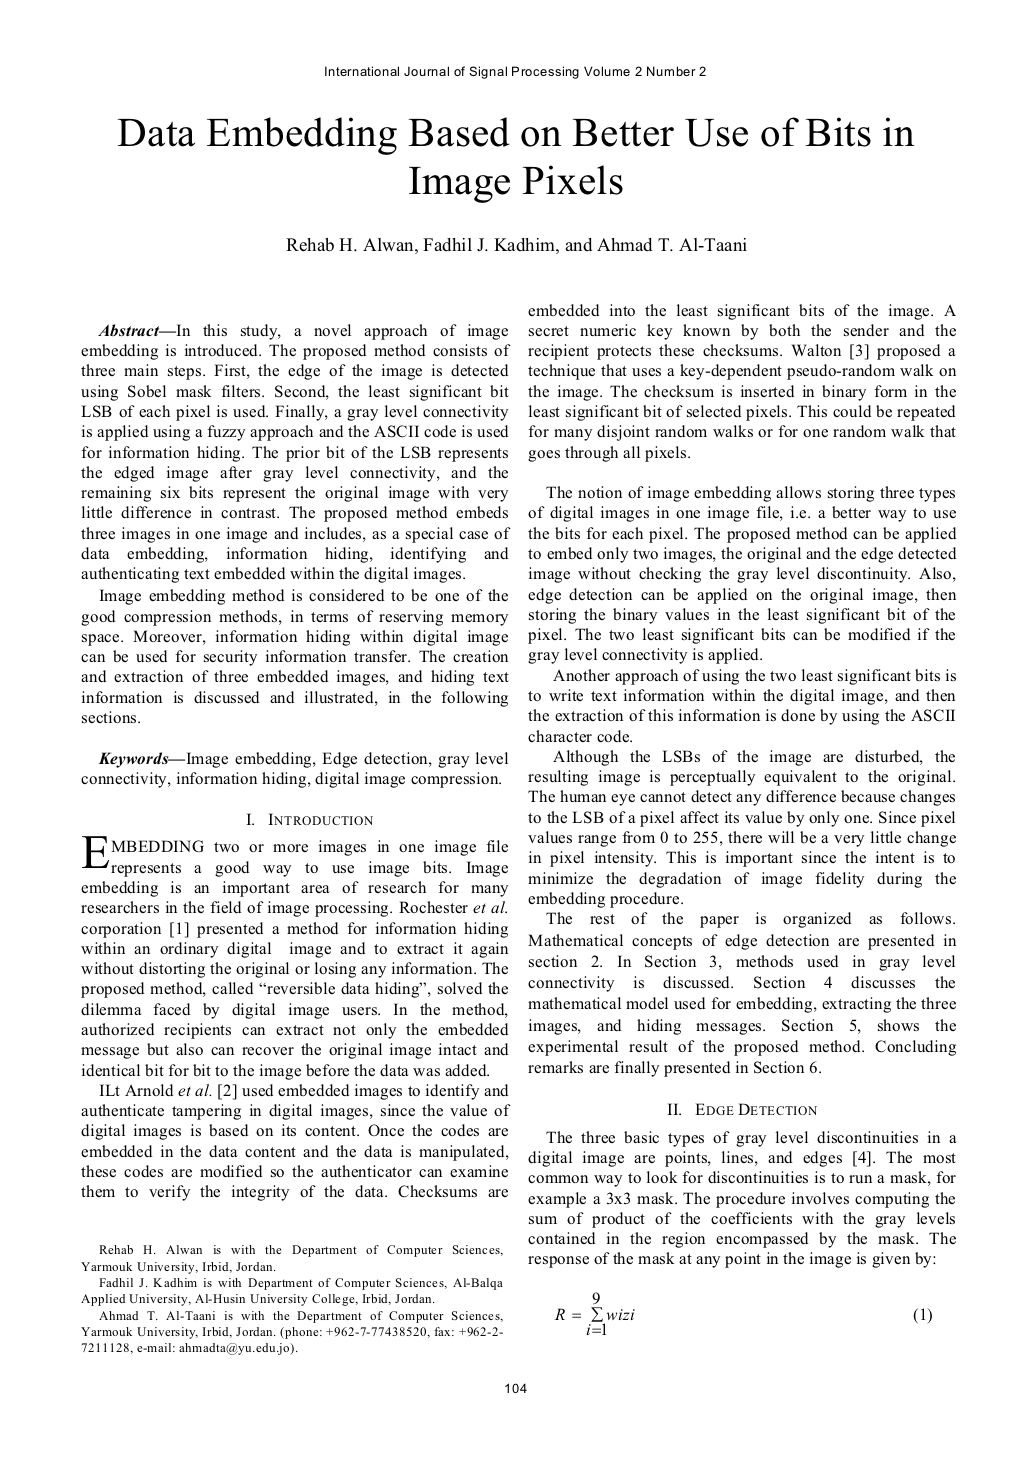figure: (81, 835, 109, 867)
formula: (555, 1292, 931, 1335)
